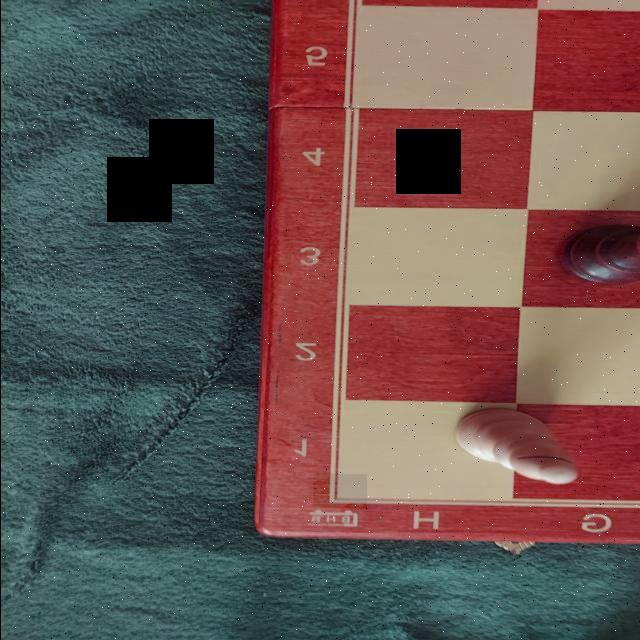chess-table-corners: (312, 473, 366, 508)
